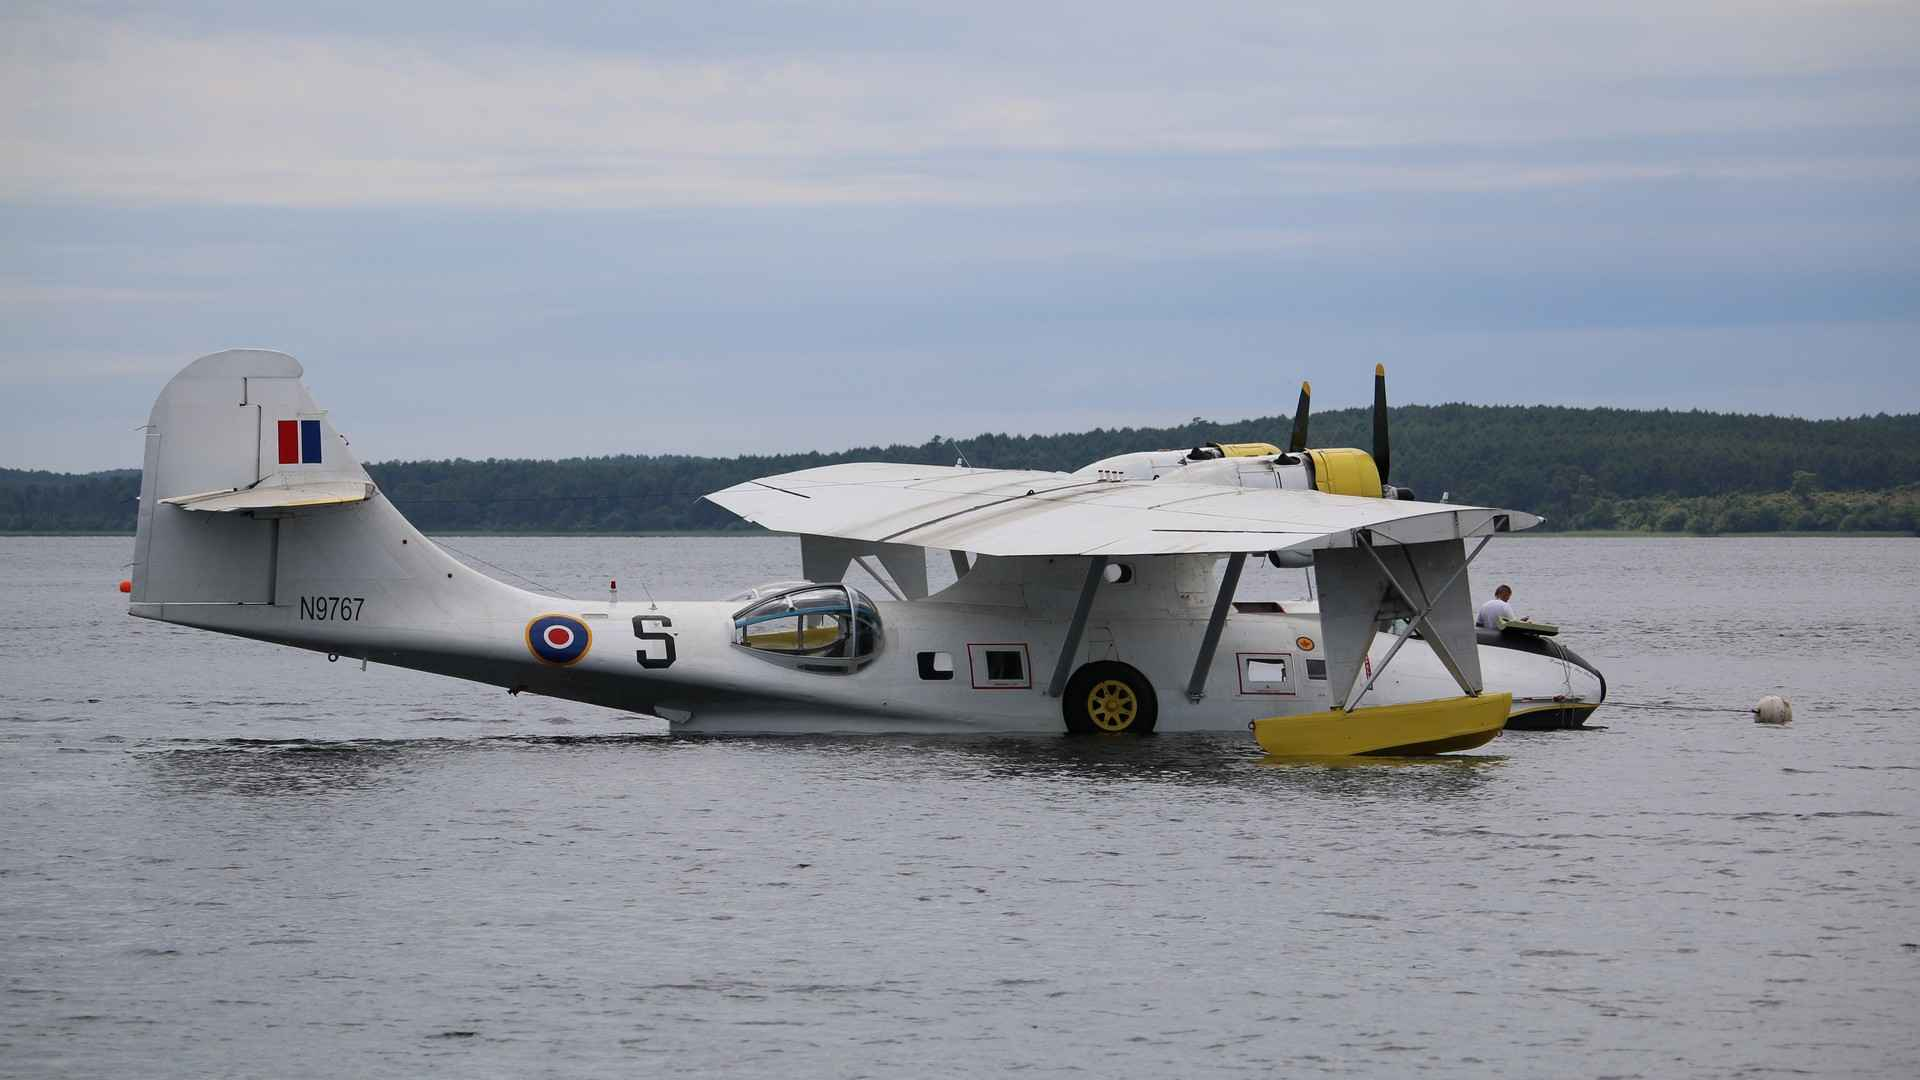Aeronef_militaire: (100, 309, 1697, 800)
